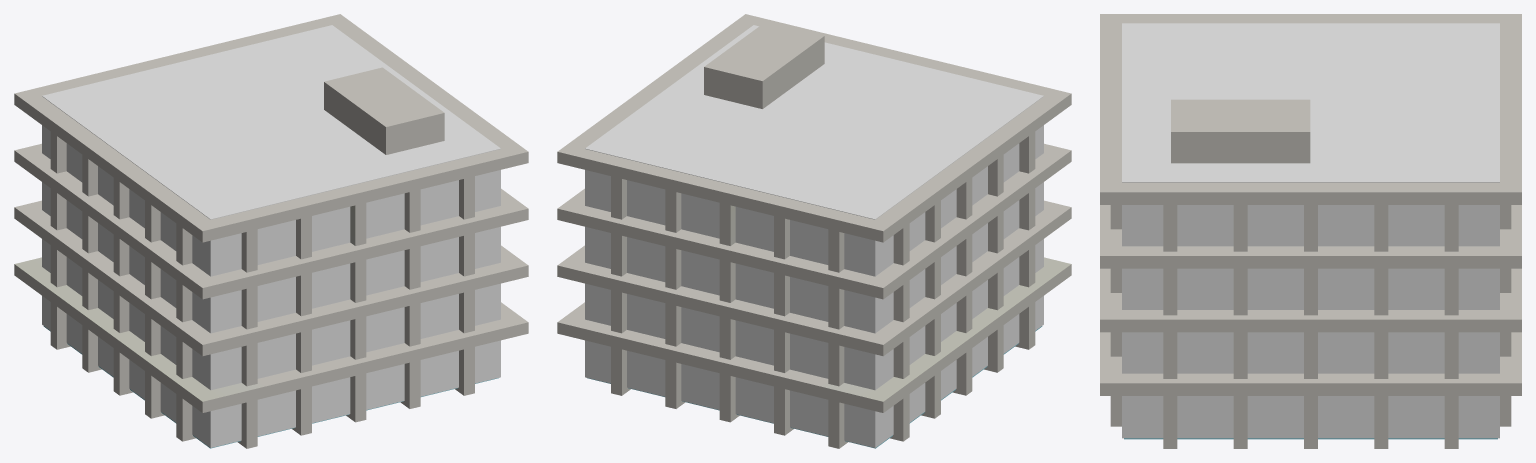
The model's file is building.gltf.
3 views of the same model, side by side, from view 1: azimuth 30°, elevation 25°; view 2: azimuth 150°, elevation 25°; view 3: azimuth 270°, elevation 25° (orthographic). The views are drawn at different scales.
Visible parts, largest first — view 1: building-office-small_Cube.130, COL; view 2: building-office-small_Cube.130, COL; view 3: COL, building-office-small_Cube.130.
Part boxes in pixels (x1,y1,x2,y2): building-office-small_Cube.130: [14, 14, 528, 448]; COL: [42, 25, 500, 447]; building-office-small_Cube.130: [557, 14, 1071, 448]; COL: [585, 25, 1043, 447]; COL: [1122, 23, 1499, 438]; building-office-small_Cube.130: [1100, 14, 1521, 448].
Size of the model in its own units: 3 by 2.3 by 3.
Materials: 1 (1 with a texture image).
